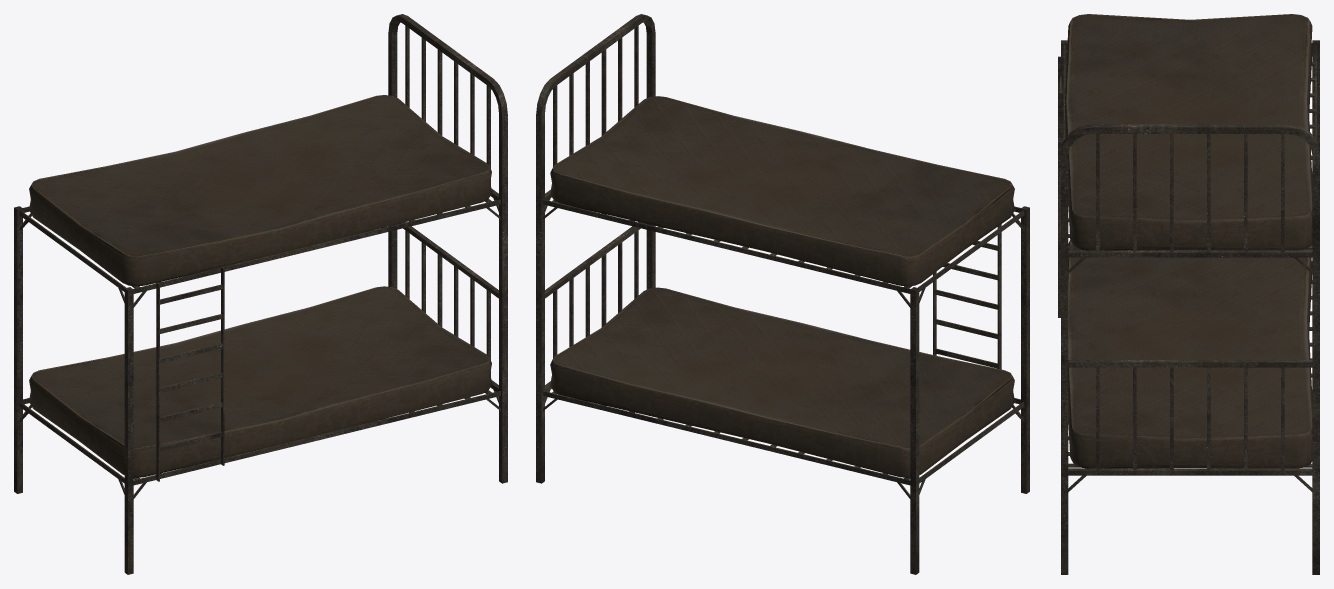
Rendered from bed_2_1.glb.
3 renders of one model, left to right at view 1: azimuth 30°, elevation 25°; view 2: azimuth 150°, elevation 25°; view 3: azimuth 270°, elevation 25°, orthographic. The views are drawn at different scales.
Parts seen in each view (by area): view 1: bed_2_1; view 2: bed_2_1; view 3: bed_2_1.
Boxes of the visible parts, bbox=[...] form: bed_2_1: bbox=[14, 14, 507, 574]; bed_2_1: bbox=[536, 14, 1029, 574]; bed_2_1: bbox=[1058, 14, 1319, 574].
Bounding box in the file's own units: 2.7 × 2.67 × 1.41.
2 materials, 2 textured.
